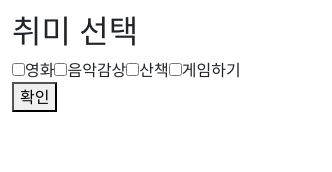
Scenario: HobbiesExam 컴포넌트 › 취미를 2개 선택하고 확인을 누르면 선택한 취미가 출력된다.
Click the checkbox labelled "영화".
click(18, 70)  # box x1=12 y1=63 x2=25 y2=76
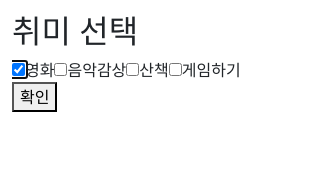
Click the checkbox labelled "게임하기".
click(175, 70)  # box x1=169 y1=63 x2=182 y2=76
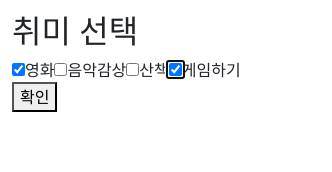
Click the button "확인".
click(35, 97)  # box x1=12 y1=82 x2=58 y2=112
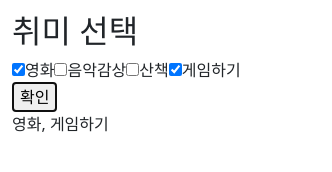
Now the text with test id "result" reads "영화, 게임하기", box x1=12 y1=113 x2=109 y2=135
